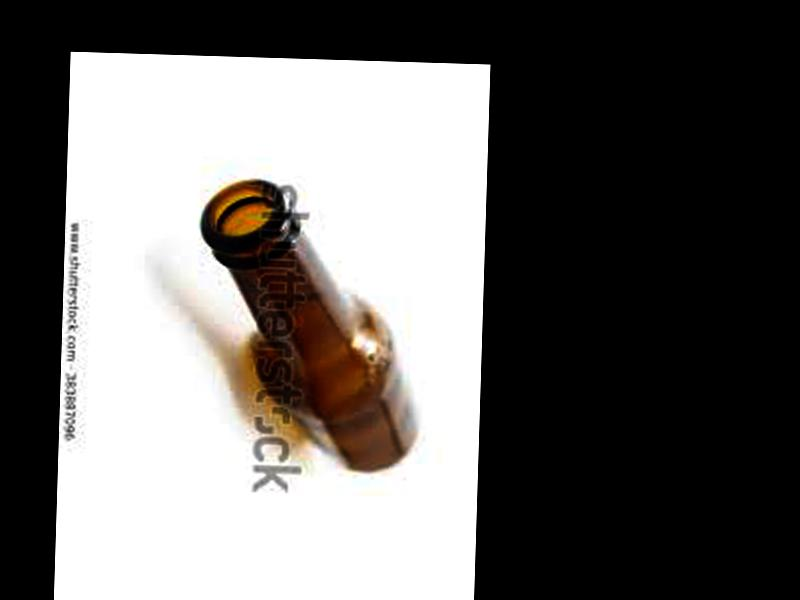Beer: (191, 177, 423, 474)
